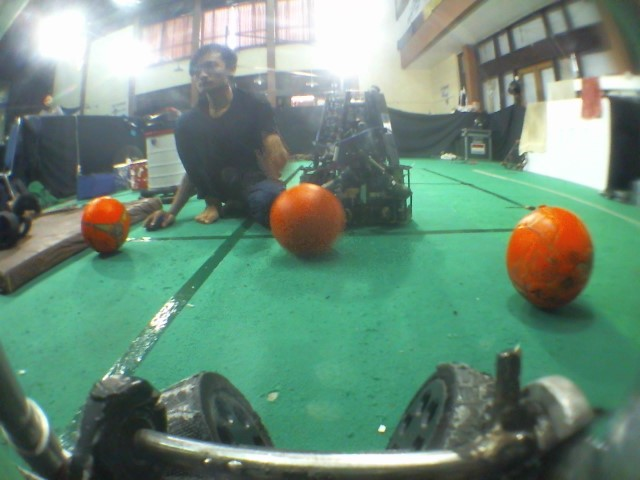ball: (504, 201, 597, 318), (267, 183, 348, 267), (76, 193, 135, 259)
